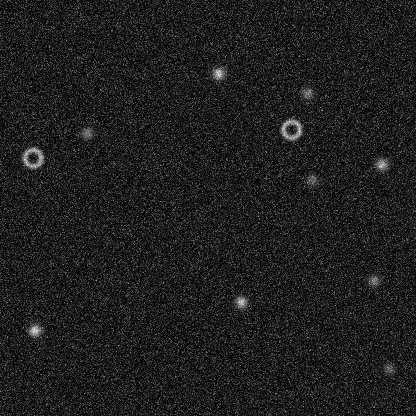Ring: (20, 145, 44, 169), (279, 117, 303, 141)
Spot: (299, 85, 315, 101), (210, 65, 226, 81), (365, 272, 381, 288), (78, 125, 94, 141), (26, 322, 42, 338), (232, 293, 248, 309), (303, 172, 319, 188), (373, 156, 389, 172), (380, 360, 396, 376)
